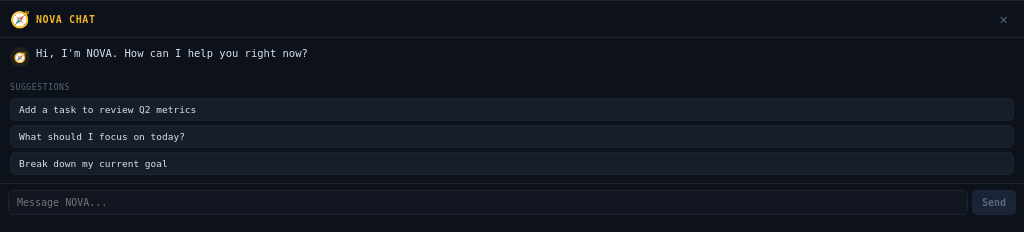
Test: NovaCompassChat › handleSend › handles API error gracefully
This screenshot has width=1024, height=232.
Step 1. Type "hello" into the field with placeholder "Message NOVA..." → {"x": 488, "y": 202}, box left=8, top=190, right=968, bottom=215
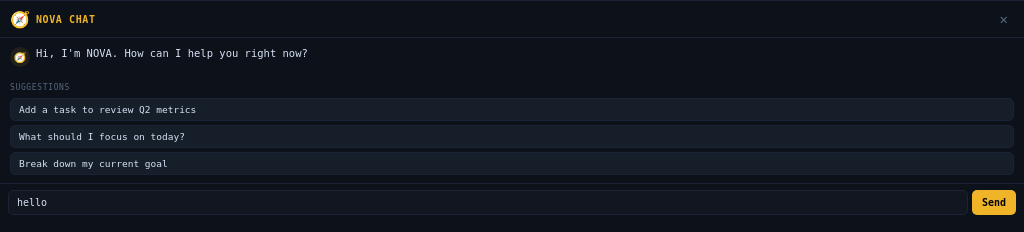
Step 2. Click the button "Send" → {"x": 994, "y": 202}, box left=972, top=190, right=1016, bottom=215
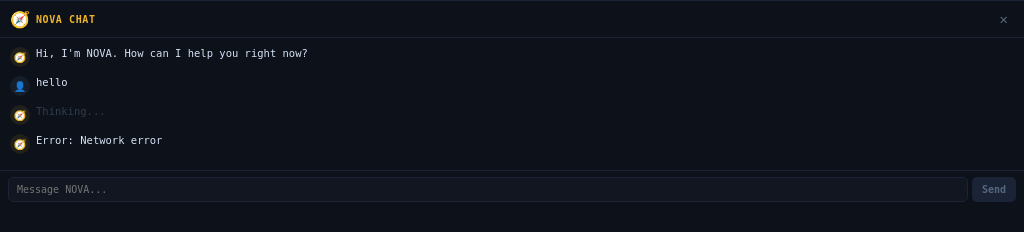
Expected: the text "Error: Network error" is shown, left=36, top=134, right=162, bottom=146
